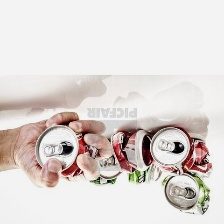can: (32, 120, 100, 179), (148, 124, 217, 181), (160, 173, 214, 218), (110, 128, 155, 173), (80, 146, 122, 189), (123, 161, 165, 187)
